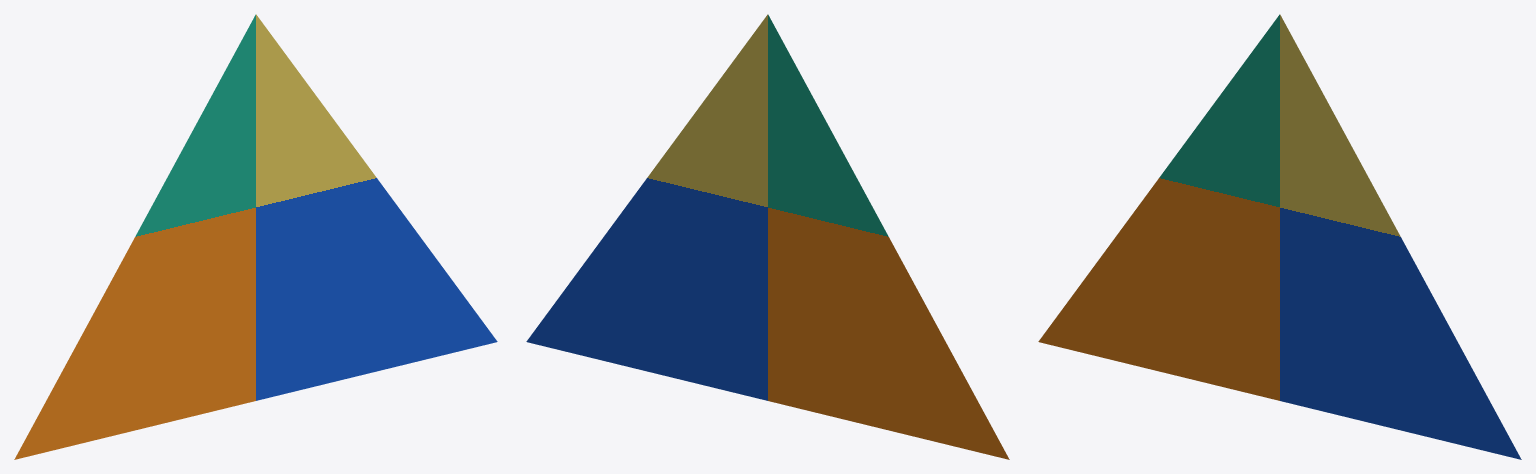
File: animated-triangle.gltf
3 renders of one model, left to right at view 1: azimuth 30°, elevation 25°; view 2: azimuth 150°, elevation 25°; view 3: azimuth 330°, elevation 25°, orthographic.
Visible parts, largest first — view 1: Card; view 2: Card; view 3: Card.
Boxes of the visible parts, x1,y1,x2,y2 form: Card: [14, 14, 497, 459]; Card: [526, 14, 1009, 459]; Card: [1038, 14, 1521, 459].
Bounding box in the file's own units: 1.7 × 1.3 × 0.
1 material, 1 textured.
